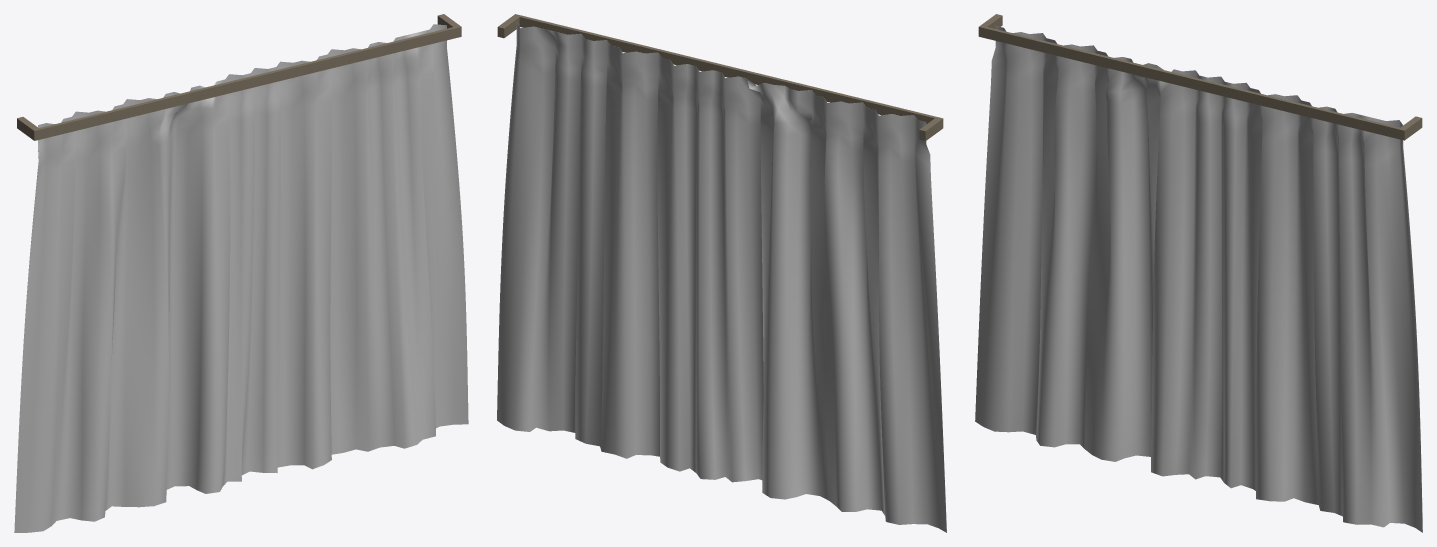
The model's file is Curtain02.FBX.
3 renders of one model, left to right at view 1: azimuth 30°, elevation 25°; view 2: azimuth 150°, elevation 25°; view 3: azimuth 330°, elevation 25°, orthographic.
Parts seen in each view (by area): view 1: Curtain02, Curtain02m; view 2: Curtain02, Curtain02m; view 3: Curtain02, Curtain02m.
Part boxes in pixels (left/top/right/bottom): Curtain02: left=14, top=24, right=468, bottom=532; Curtain02m: left=17, top=14, right=461, bottom=140; Curtain02: left=497, top=22, right=946, bottom=532; Curtain02m: left=497, top=14, right=943, bottom=141; Curtain02: left=975, top=26, right=1422, bottom=532; Curtain02m: left=978, top=14, right=1422, bottom=140.
Size of the model in its own units: 174 by 150 by 13.2.
